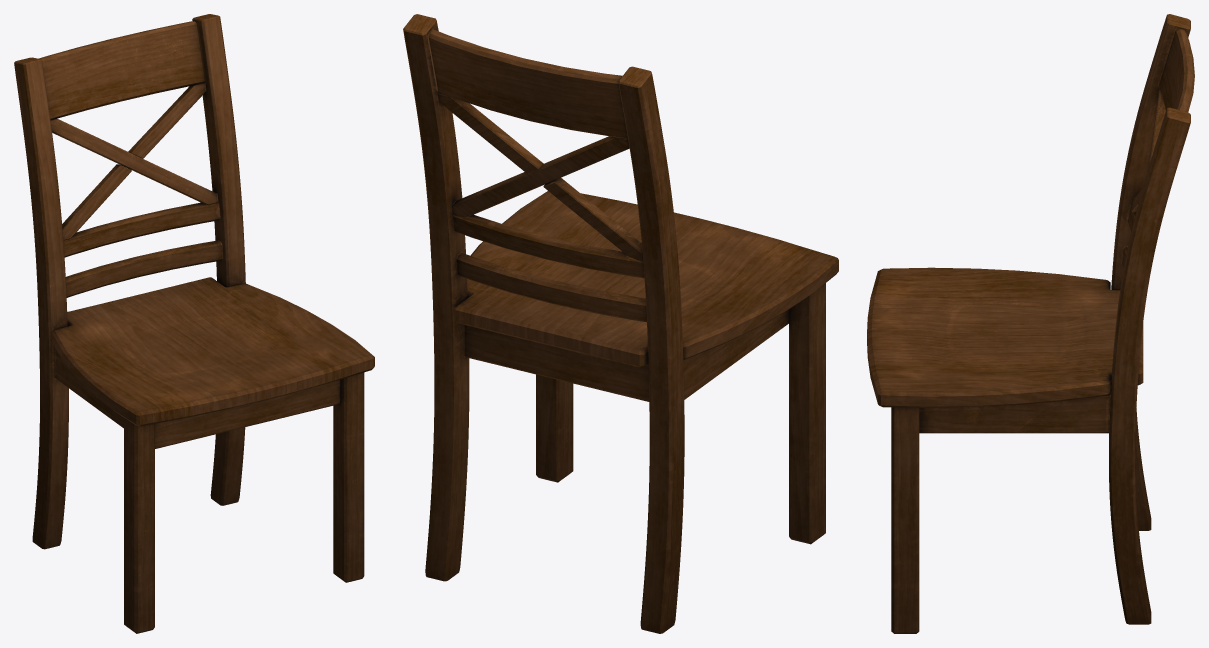
File: chair.glb
3 renders of one model, left to right at view 1: azimuth 30°, elevation 25°; view 2: azimuth 150°, elevation 25°; view 3: azimuth 270°, elevation 25°, orthographic. The views are drawn at different scales.
Visible parts, largest first — view 1: chair; view 2: chair; view 3: chair.
Boxes of the visible parts, bbox=[...] form: chair: bbox=[14, 14, 374, 633]; chair: bbox=[403, 14, 838, 633]; chair: bbox=[867, 14, 1194, 633].
Size of the model in its own units: 0.5134 by 0.9532 by 0.5556.
Materials: 1 (1 with a texture image).
